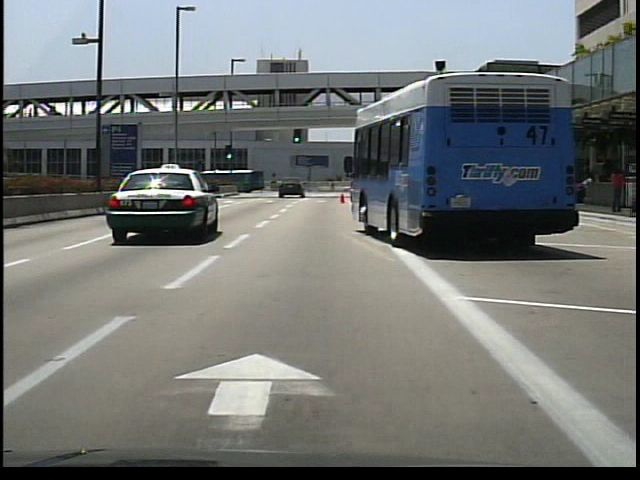person: (607, 163, 626, 215)
